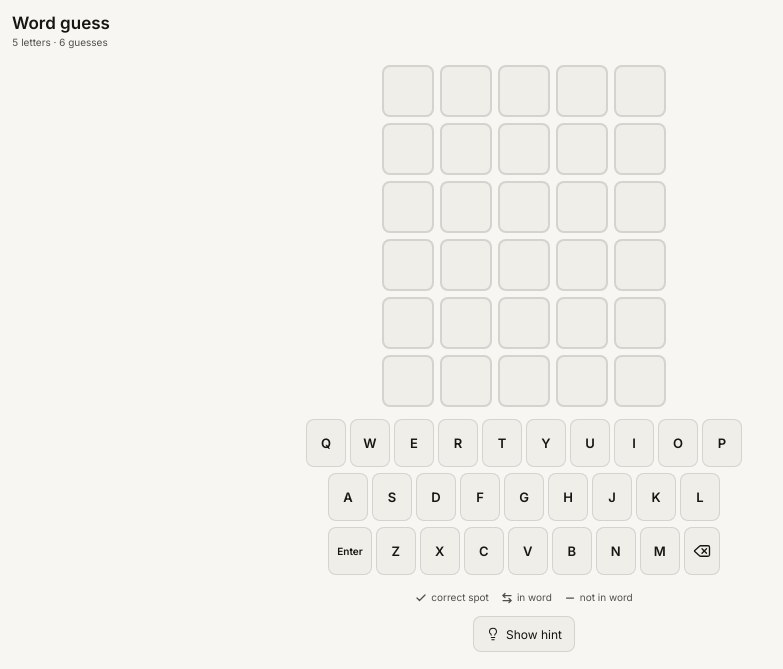
Test: word-guess: play › reveals the hint, counts it, and moves focus to it
Click the button "Show hint" at (524, 634), box [473,616,575,652]
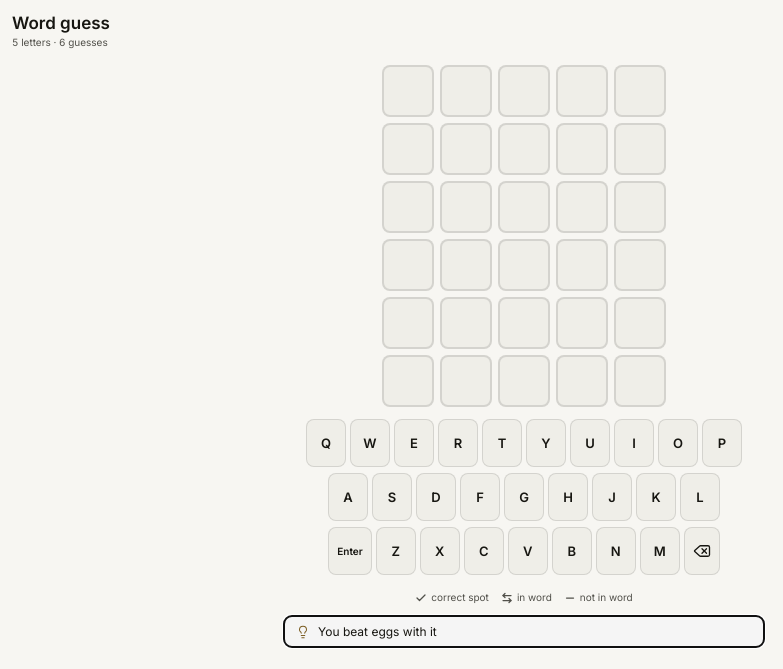
Check: the element showing "You beat eggs with it" is shown, box [284,616,764,647]
Check: the button "Show hint" is gone
